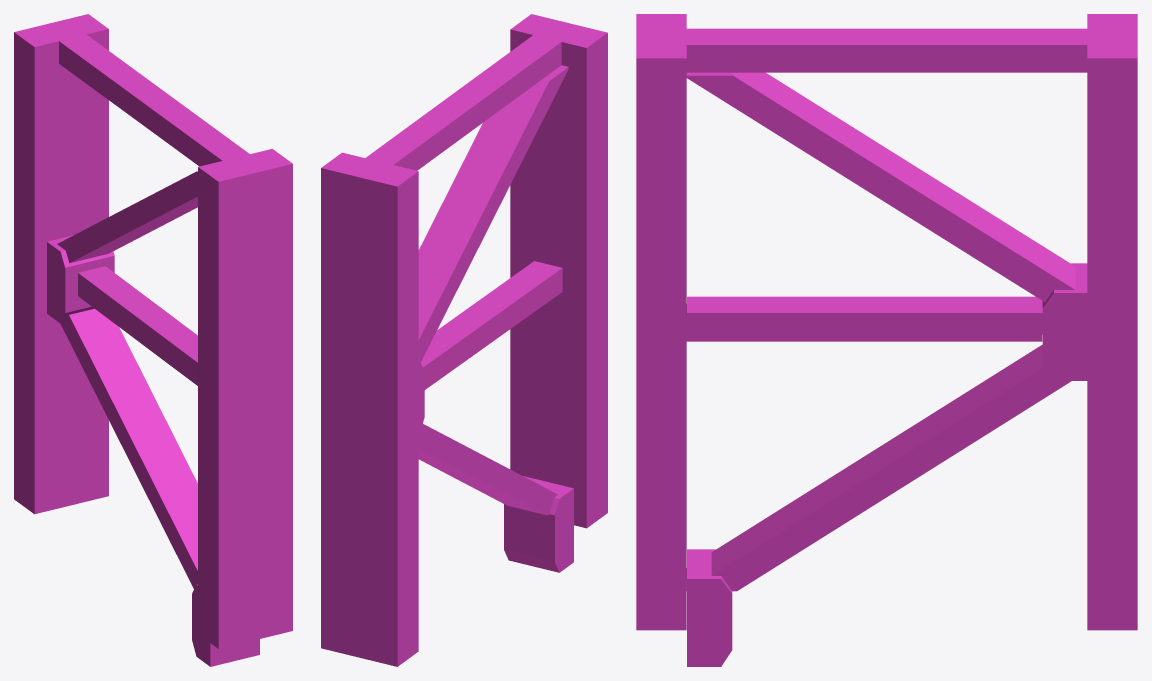
The model's file is platform holder.fbx.
3 views of the same model, side by side, from view 1: azimuth 30°, elevation 25°; view 2: azimuth 150°, elevation 25°; view 3: azimuth 270°, elevation 25° (orthographic). The views are drawn at different scales.
Parts seen in each view (by area): view 1: Cube.072; view 2: Cube.072; view 3: Cube.072.
Part boxes in pixels (x1,y1,x2,y2): Cube.072: [14, 14, 292, 666]; Cube.072: [321, 14, 607, 666]; Cube.072: [636, 14, 1137, 666].
Bounding box in the file's own units: 33.31 × 215 × 159.
